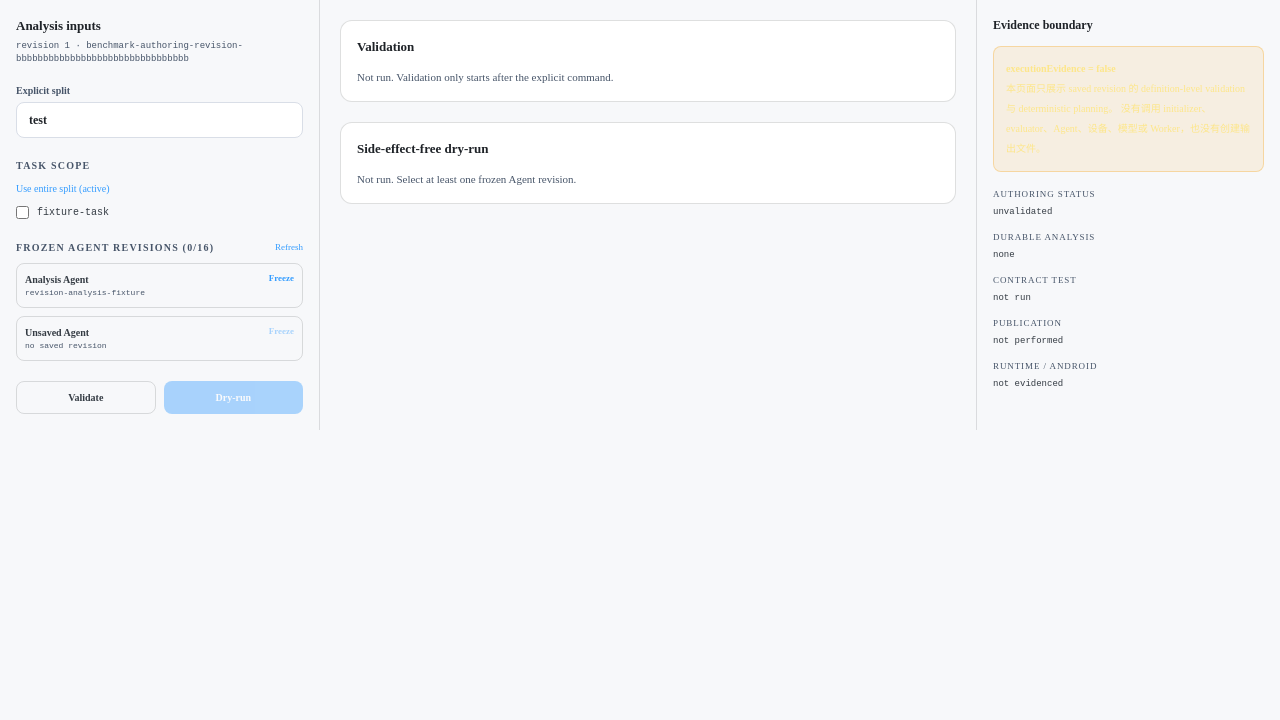
Test case: BenchmarkValidationDryRunView › freezes an Agent and renders only one 50-row schedule page
Expected: the text "Analysis Agent" is shown, 25,274 -> 89,285
Click the button "Freeze" in the row of "Analysis Agent": (281, 279) 269,272 -> 294,286
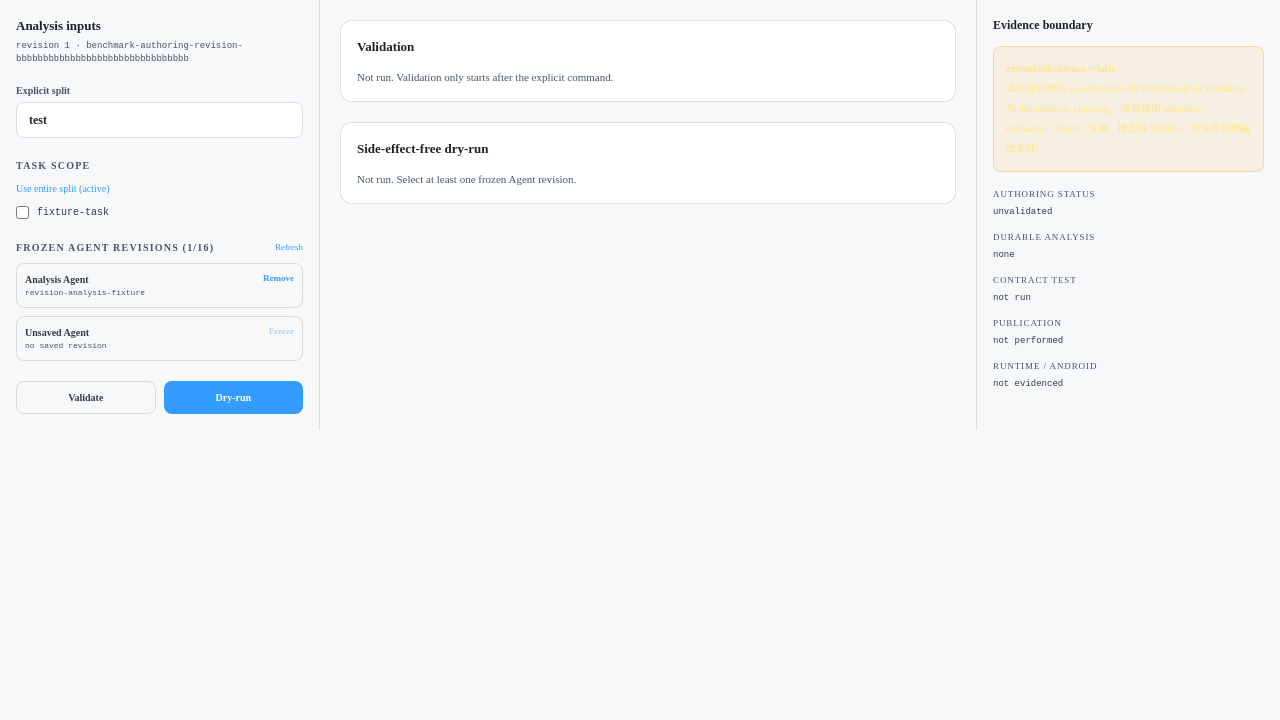
Click the button "Dry-run": (233, 398) 164,381 -> 303,414
(page scrolled)
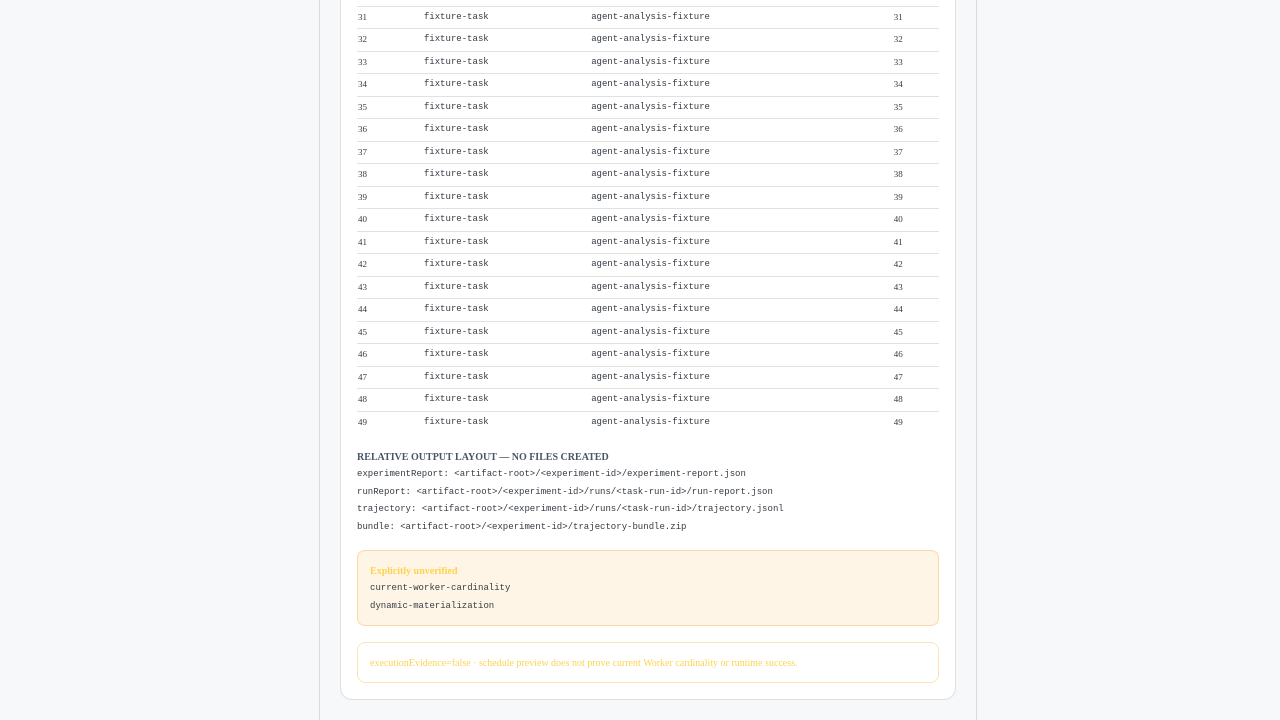
Expected: the text "current-worker-cardinality" is shown, 370,583 -> 510,593
